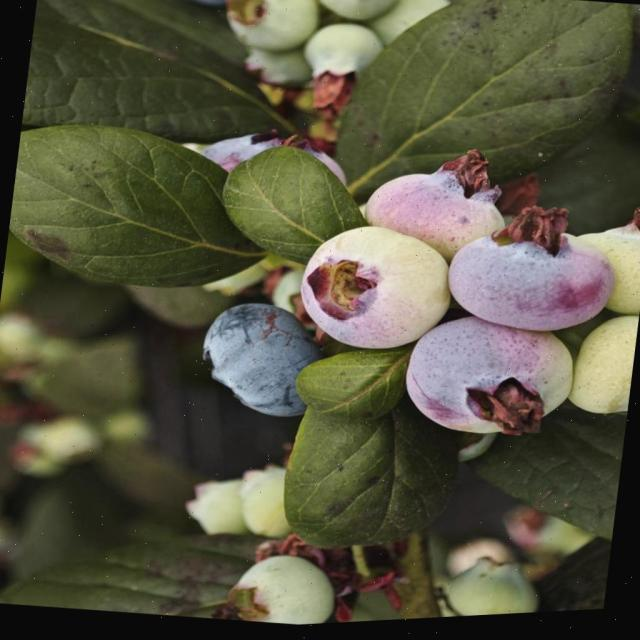RipeBlueBerry: (191, 297, 326, 431)
Semi-RipeBlueBerry: (406, 313, 578, 453), (293, 220, 458, 362), (450, 235, 610, 346), (362, 165, 514, 256)
UnripeBlueBerry: (223, 552, 342, 630)
